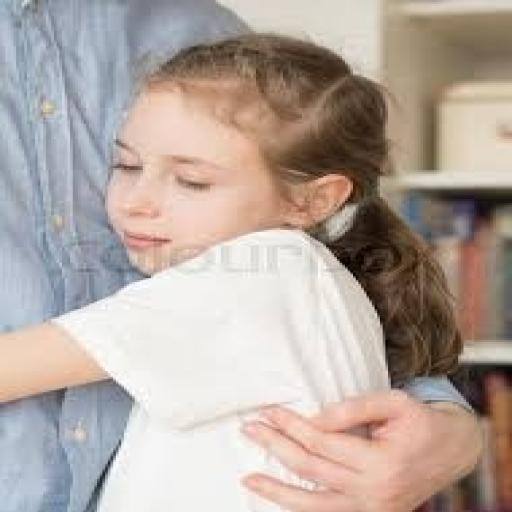hugging: (0, 29, 490, 510)
